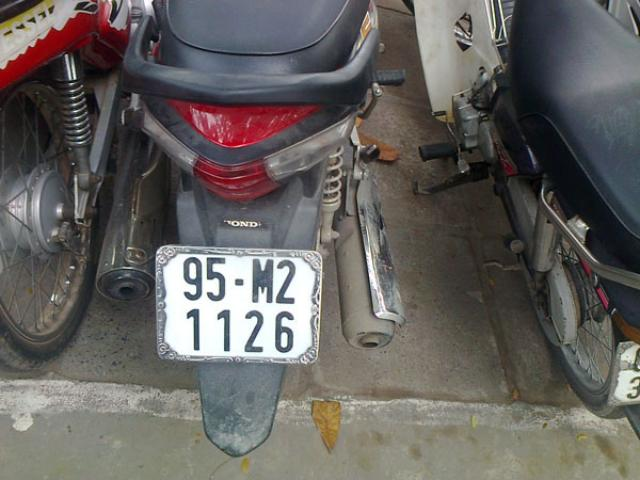plate: (163, 246, 307, 356)
